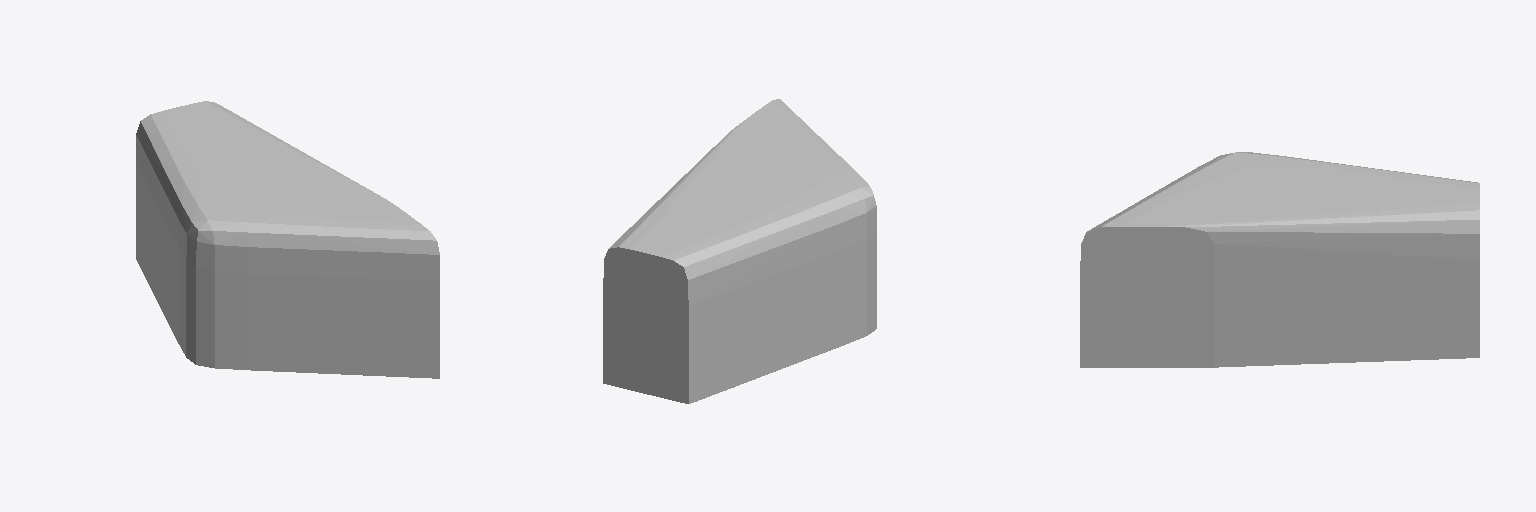
File: pentagon_collision_3.obj
The picture shows the model from 3 angles: view 1: azimuth 30°, elevation 25°; view 2: azimuth 150°, elevation 25°; view 3: azimuth 270°, elevation 25°; orthographic projection.
Size of the model in its own units: 0.0041 by 0.0033 by 0.0085.